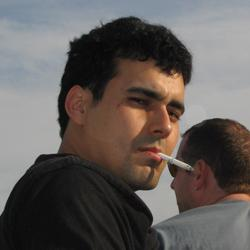cigarro: (156, 148, 194, 173)
fumador: (59, 9, 202, 249)
